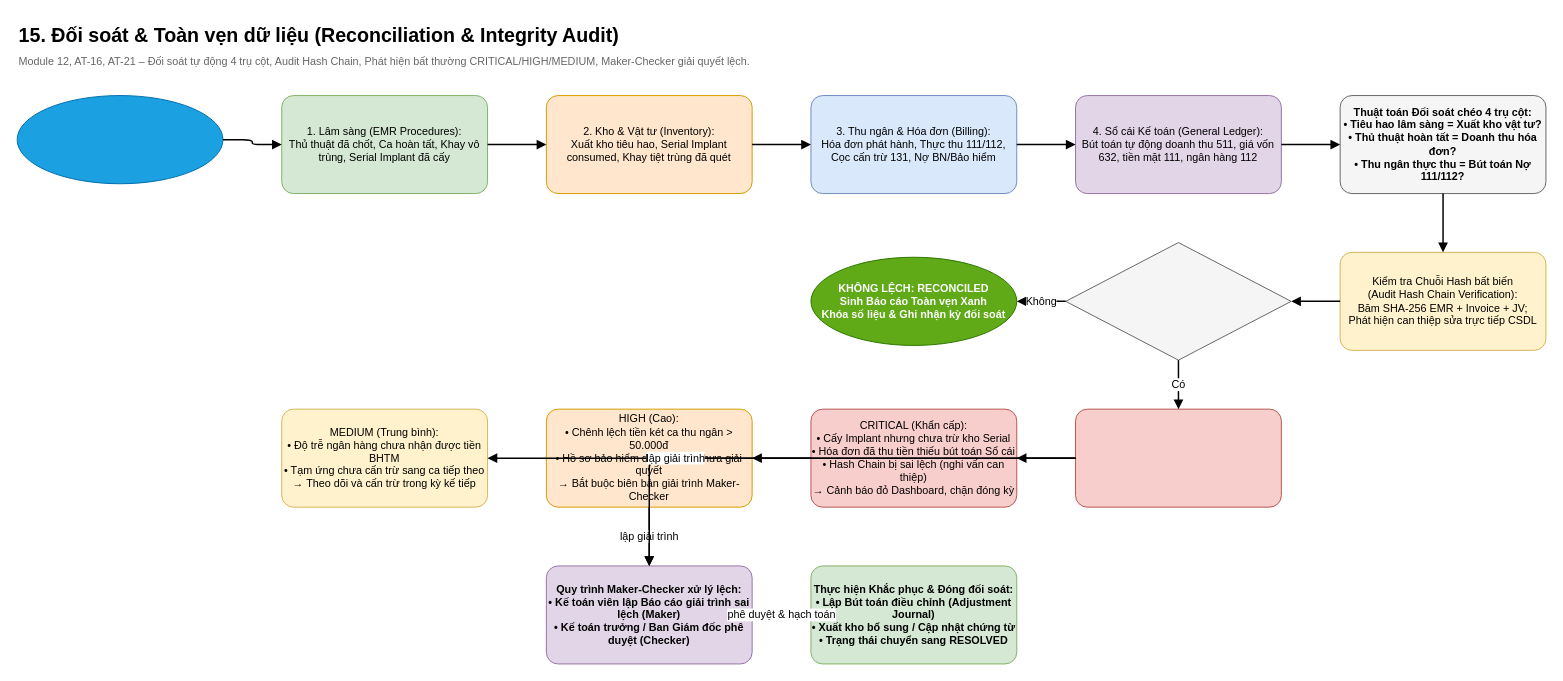
The diagram is 1563 pixels wide and 681 high, and some of its shapes have lost their labels. The shapes that lost their labels are listed below. From the top down, each one's centre as x and y in pixels, then its label:
[119,139]: Kích hoạt Đối soát hàng ngày (Tự động 23:59 hoặc Thủ công theo ngày)
[1178,301]: Phát hiện sai lệch hoặc đứt chuỗi Hash?
[1178,457]: CÓ LỆCH: Phân loại mức độ nghiêm trọng (CRITICAL / HIGH / MEDIUM)
